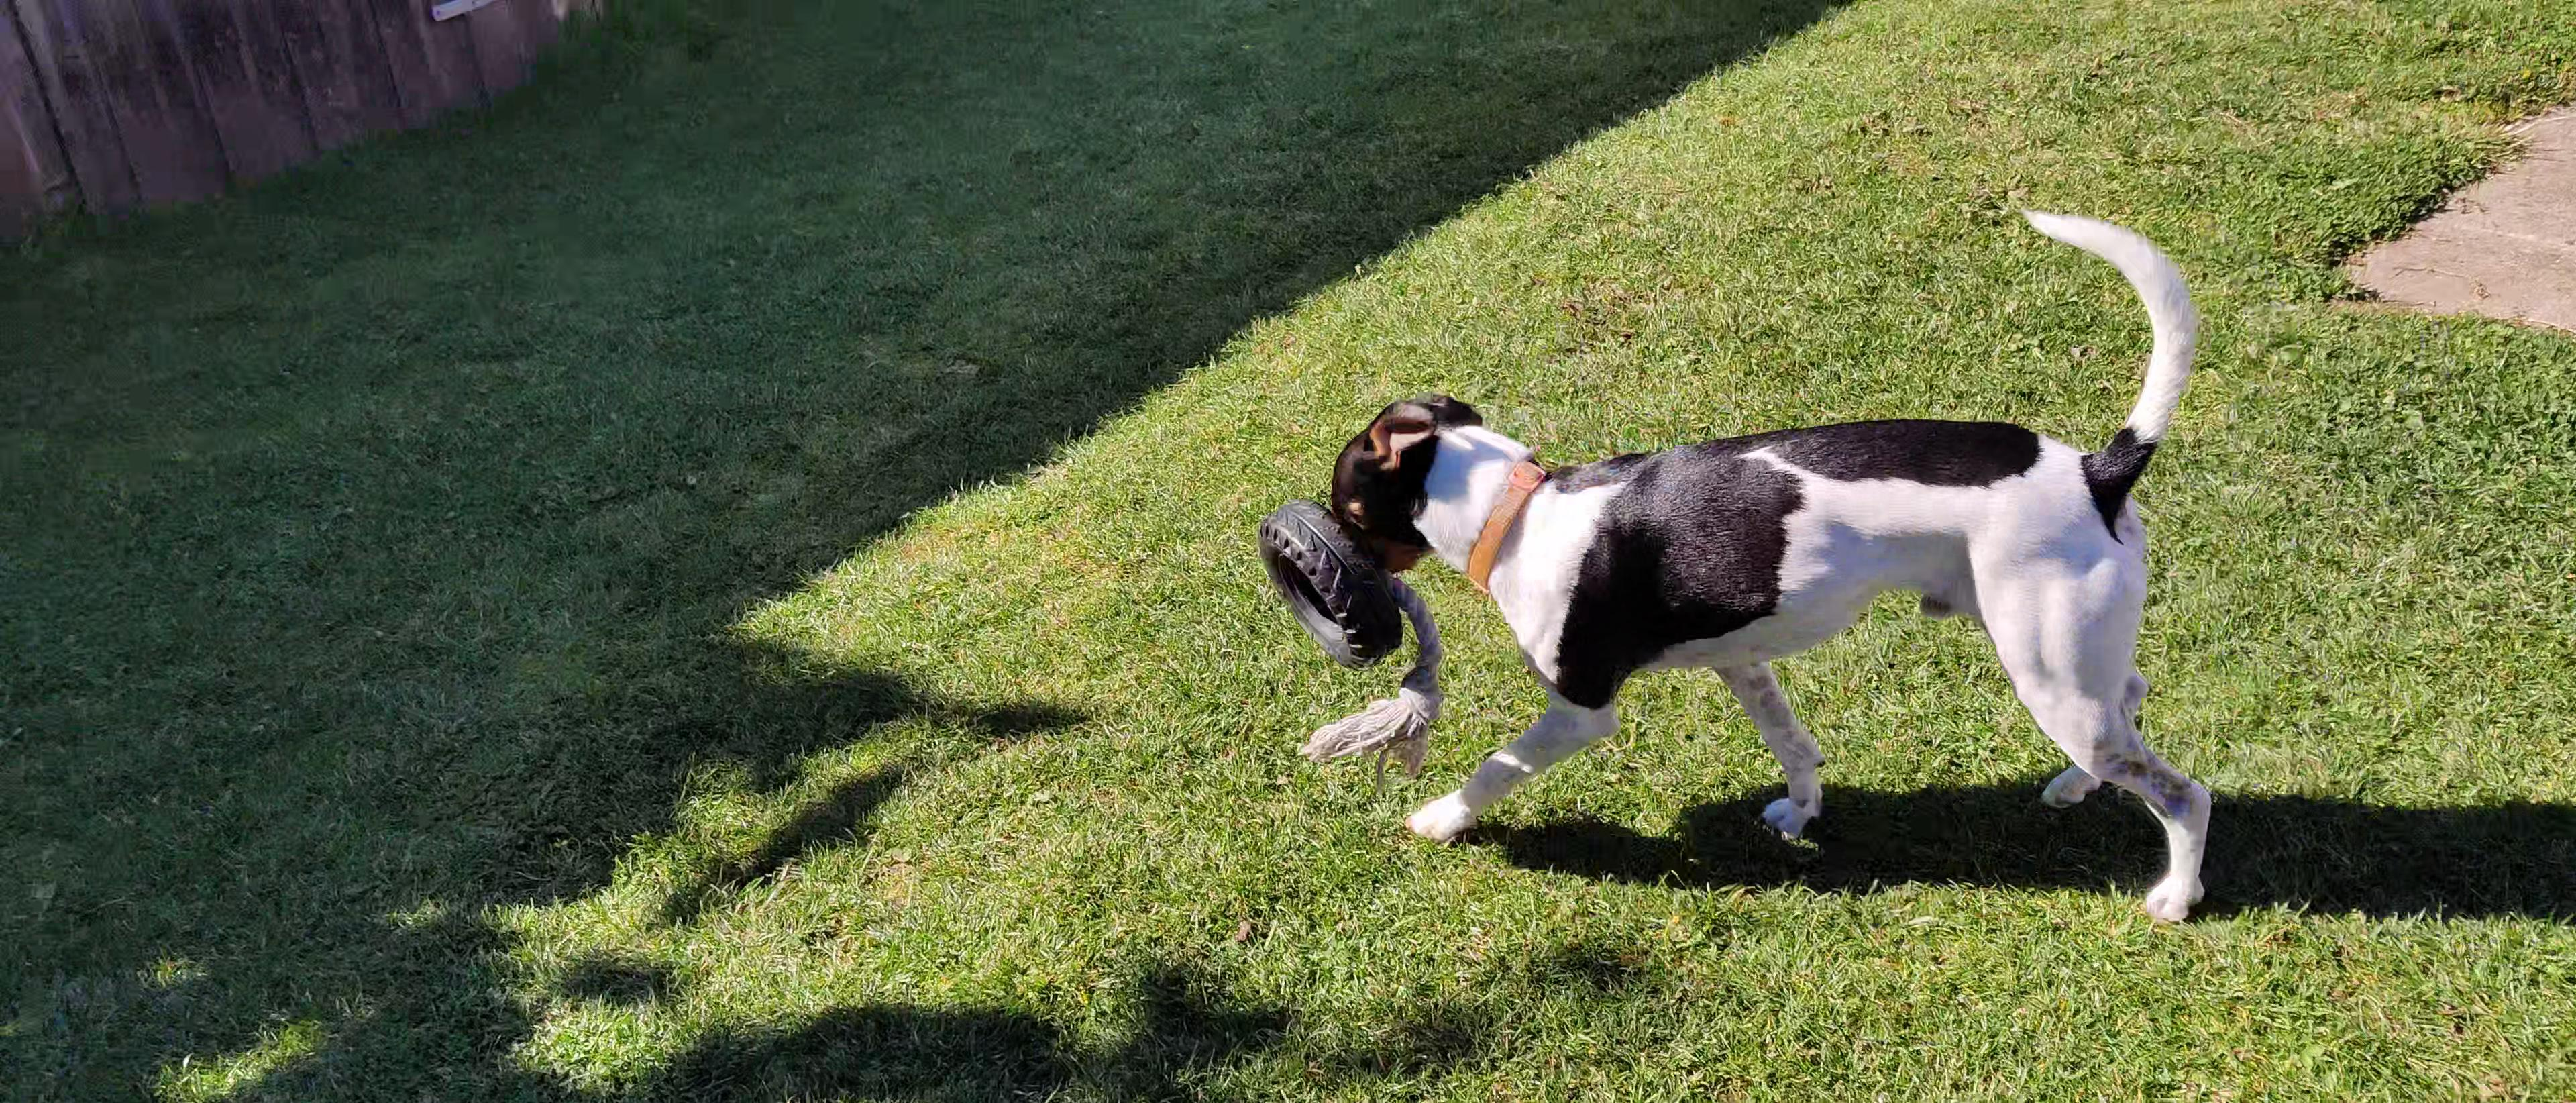Dog: (1326, 192, 2215, 930)
